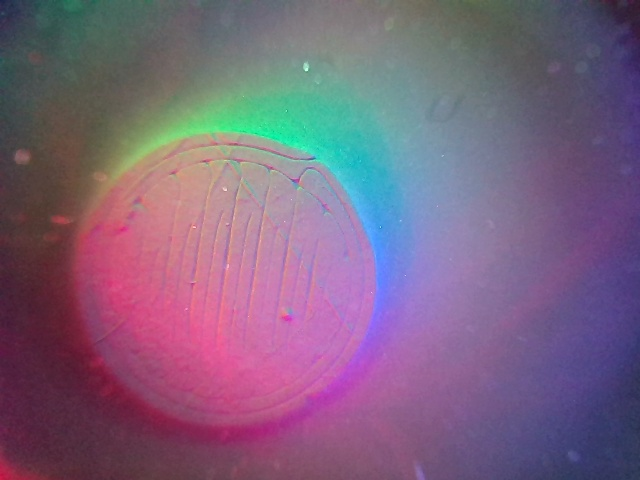contact: (73, 133, 375, 431)
